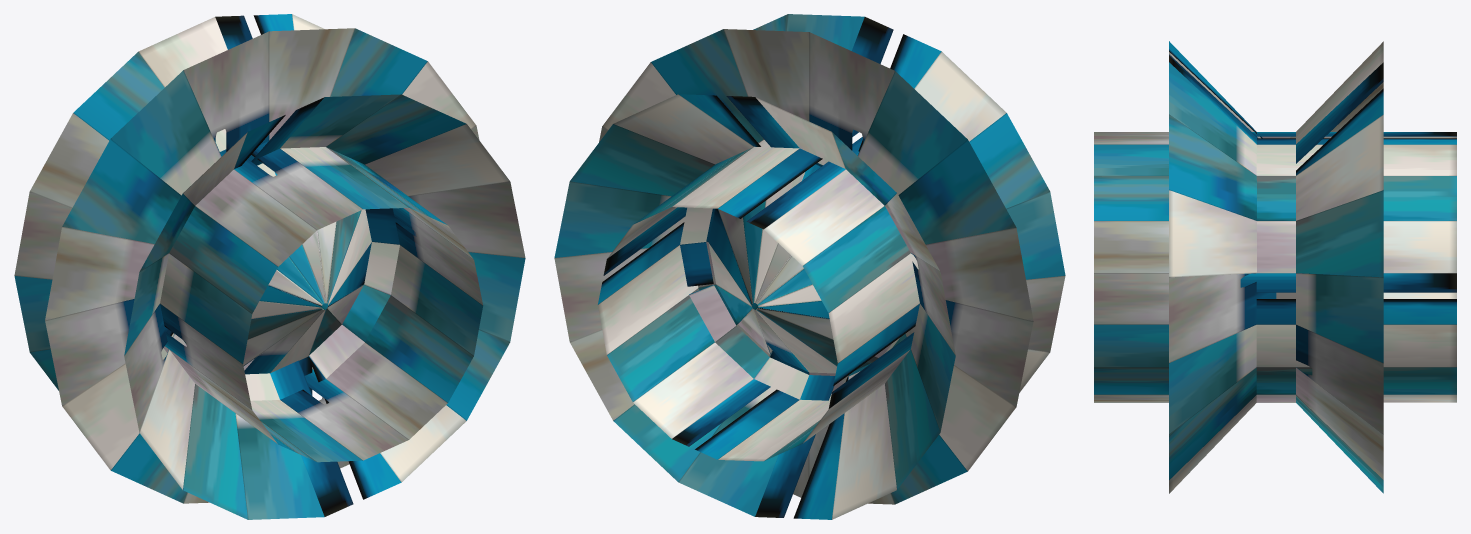
3 views of the same model, side by side, from view 1: azimuth 30°, elevation 25°; view 2: azimuth 150°, elevation 25°; view 3: azimuth 270°, elevation 25° (orthographic). The views are drawn at different scales.
Visible parts, largest first — view 1: T1L1M003_5; view 2: T1L1M003_5; view 3: T1L1M003_5.
Boxes of the visible parts, x1,y1,x2,y2 form: T1L1M003_5: [14, 14, 525, 519]; T1L1M003_5: [554, 14, 1065, 519]; T1L1M003_5: [1094, 41, 1456, 493].
Size of the model in its own units: 4.38 by 4.38 by 3.14.
